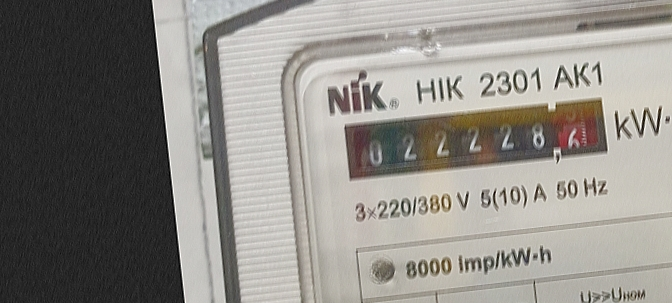0: (367, 137, 386, 167)
2: (400, 131, 421, 162), (499, 121, 519, 151), (465, 124, 485, 153), (434, 128, 453, 158)
5: (563, 102, 581, 124)
6: (566, 125, 584, 148)
8: (531, 121, 549, 150)
screen: (336, 85, 620, 190)
